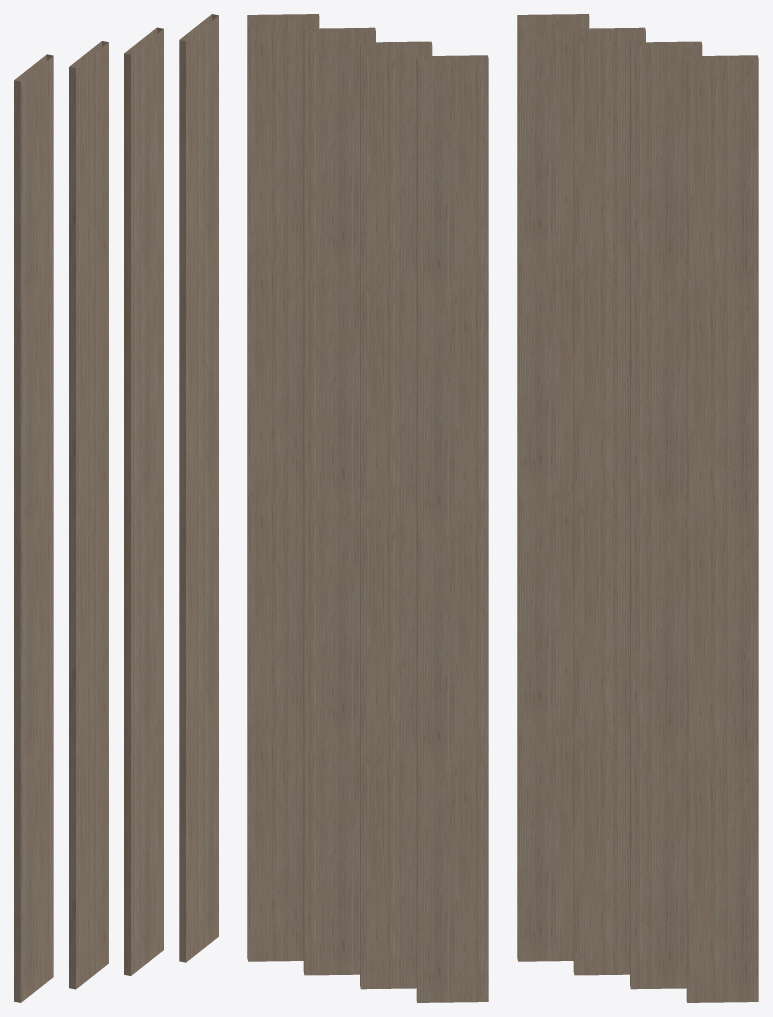
3 views of the same model, side by side, from view 1: azimuth 30°, elevation 25°; view 2: azimuth 150°, elevation 25°; view 3: azimuth 330°, elevation 25° (orthographic). The views are drawn at different scales.
Parts seen in each view (by area): view 1: M_W_002_l_2x8; view 2: M_W_002_l_2x8; view 3: M_W_002_l_2x8.
Part boxes in pixels (<box>): M_W_002_l_2x8: <box>14,14,218,1002</box>; M_W_002_l_2x8: <box>247,14,488,1002</box>; M_W_002_l_2x8: <box>517,14,758,1002</box>.
Bounding box in the file's own units: 2 × 8 × 0.3382.
